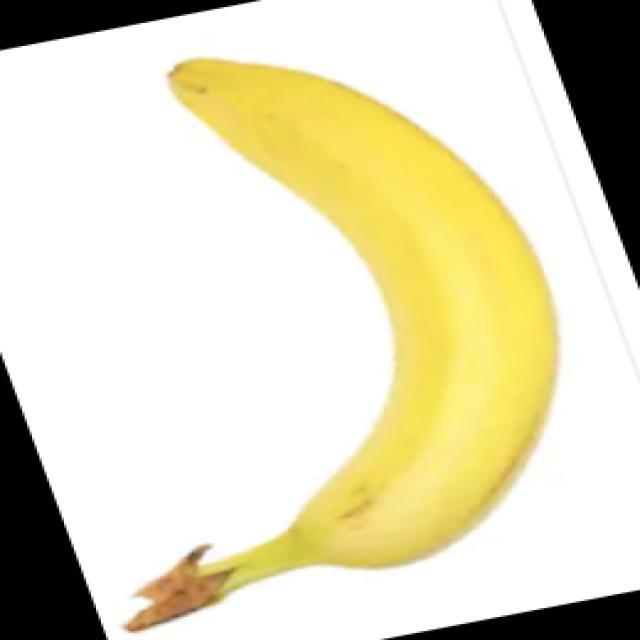Banana: (121, 54, 560, 633)
